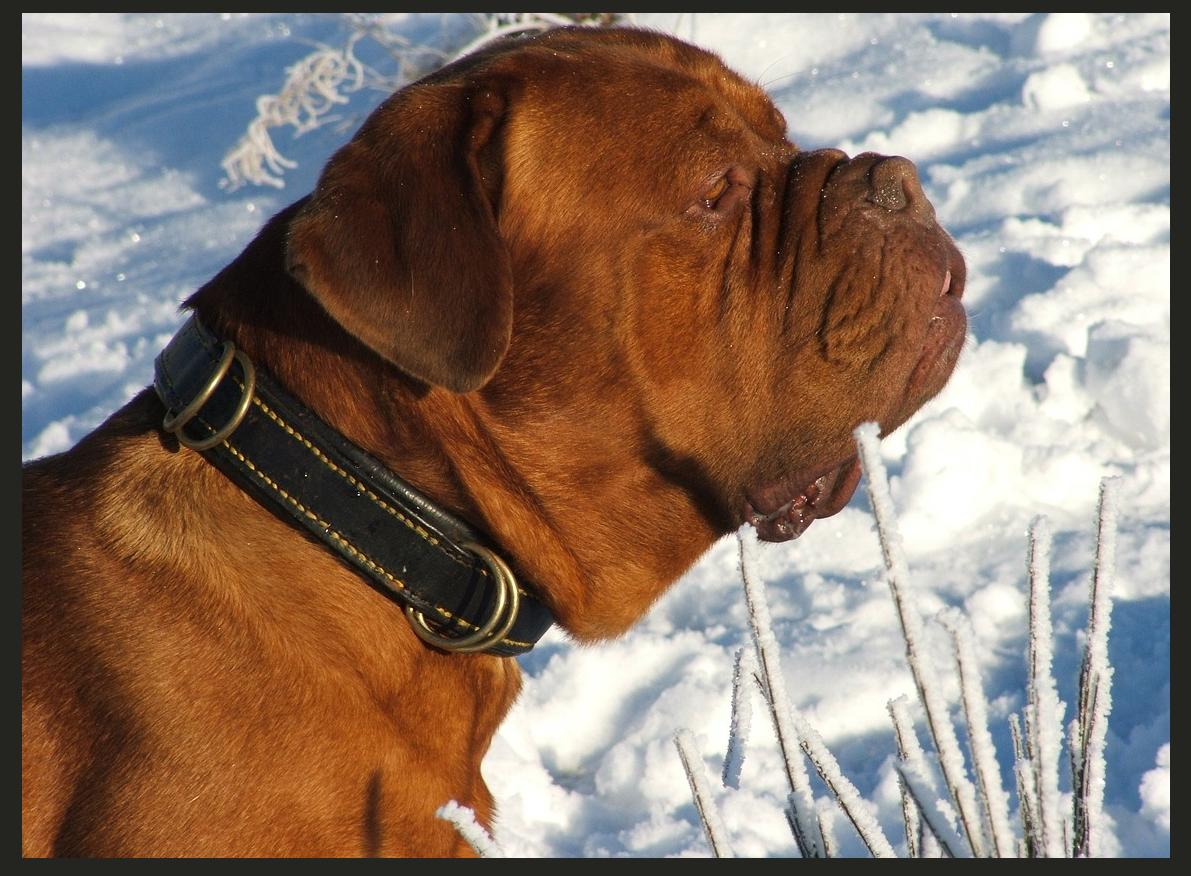dogue_de_bordeaux: (20, 22, 968, 859)
